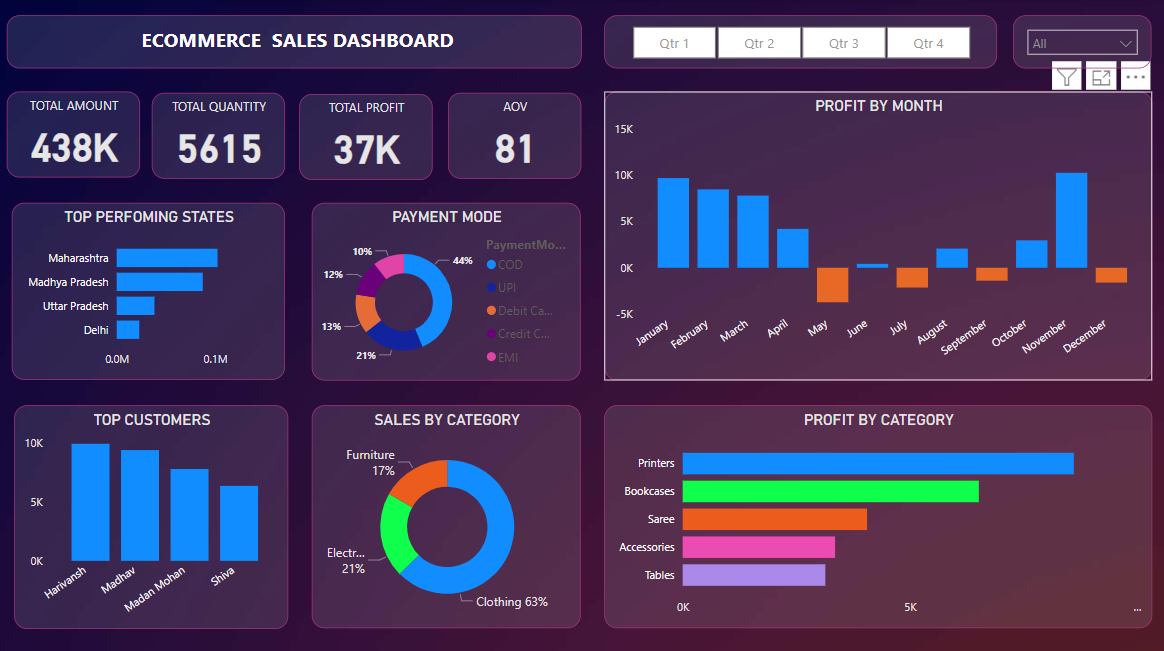

The page's visual inventory and layout, read from the dashboard file:
{"tool":"powerbi","page":{"name":"Page 1","canvas":[1280,720],"ordinal":0},"visuals":[{"type":"textbox","box":[9,17.9,631.3,58.2],"z":0},{"type":"columnChart","title":"PROFIT BY MONTH","fields":{"Category":["Orders.Order Date.Variation.Date Hierarchy.Month"],"Y":["Sum(Details.Profit)"]},"box":[665.7,101.5,601.5,316.4],"z":1000},{"type":"clusteredBarChart","title":"PROFIT BY CATEGORY","fields":{"Category":["Details.Sub-Category"],"Y":["Sum(Details.Profit)"]},"box":[665.7,446.3,601.5,244.8],"z":2000},{"type":"donutChart","title":"SALES BY CATEGORY","fields":{"Category":["Details.Category"],"Y":["Sum(Details.Quantity)"]},"box":[344.8,446.3,295.5,244.8],"z":3000},{"type":"donutChart","title":"PAYMENT MODE","fields":{"Y":["Sum(Details.Quantity)"],"Category":["Details.PaymentMode"]},"box":[344.8,223.9,295.5,195.5],"z":4000},{"type":"card","title":"TOTAL AMOUNT","fields":{"Values":["Sum(Details.Amount)"]},"box":[9,101.5,146.3,94],"z":5000},{"type":"card","title":"TOTAL QUANTITY","fields":{"Values":["Sum(Details.Quantity)"]},"box":[168.7,103,146.3,94],"z":6000},{"type":"card","title":"TOTAL PROFIT","fields":{"Values":["Sum(Details.Profit)"]},"box":[331.3,104.5,146.3,94],"z":7000},{"type":"card","title":"AOV","fields":{"Values":["Details.Average Order Value"]},"box":[494,103,146.3,94],"z":8000},{"type":"clusteredBarChart","title":"TOP PERFOMING STATES","fields":{"Category":["Orders.State"],"Y":["Sum(Details.Amount)"]},"box":[14.9,223.9,300,194],"z":9000},{"type":"columnChart","title":"TOP CUSTOMERS","fields":{"Category":["Orders.CustomerName"],"Y":["Sum(Details.Amount)"]},"box":[17.8,446,300.5,245.6],"z":10000},{"type":"slicer","fields":{"Values":["Orders.Order Date.Variation.Date Hierarchy.Quarter"]},"box":[665.7,17.9,431.3,58.2],"z":11000},{"type":"slicer","fields":{"Values":["Orders.State"]},"box":[1114.9,17.9,152.2,58.2],"z":12000}]}

Visuals, with their boxes in screenshot pixels (x1, y1, x2, y2), scaled from the page's 1280x720 canvas onto the 1164x651 screenshot:
textbox: pyautogui.locateOnScreen(8, 16, 582, 69)
"PROFIT BY MONTH" columnChart: pyautogui.locateOnScreen(605, 92, 1152, 378)
"PROFIT BY CATEGORY" clusteredBarChart: pyautogui.locateOnScreen(605, 404, 1152, 625)
"SALES BY CATEGORY" donutChart: pyautogui.locateOnScreen(314, 404, 582, 625)
"PAYMENT MODE" donutChart: pyautogui.locateOnScreen(314, 202, 582, 379)
"TOTAL AMOUNT" card: pyautogui.locateOnScreen(8, 92, 141, 177)
"TOTAL QUANTITY" card: pyautogui.locateOnScreen(153, 93, 286, 178)
"TOTAL PROFIT" card: pyautogui.locateOnScreen(301, 94, 434, 179)
"AOV" card: pyautogui.locateOnScreen(449, 93, 582, 178)
"TOP PERFOMING STATES" clusteredBarChart: pyautogui.locateOnScreen(14, 202, 286, 378)
"TOP CUSTOMERS" columnChart: pyautogui.locateOnScreen(16, 403, 289, 625)
slicer - Orders.Order Date.Variation.Date Hierarchy.Quarter: pyautogui.locateOnScreen(605, 16, 998, 69)
slicer - Orders.State: pyautogui.locateOnScreen(1014, 16, 1152, 69)
